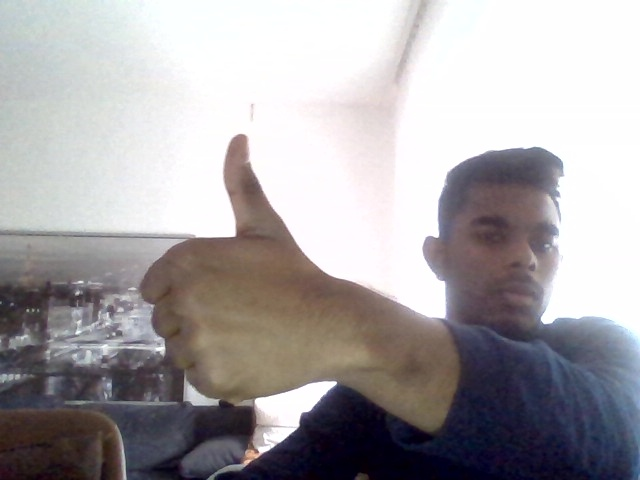tup: (138, 134, 355, 398)
